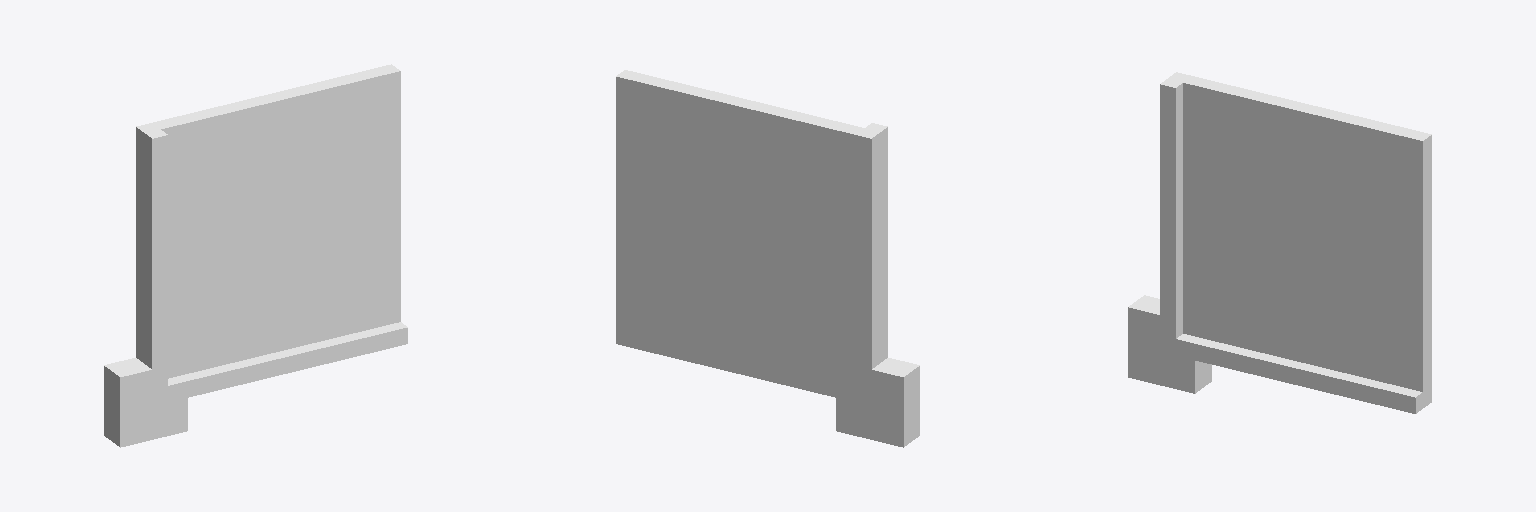
Rendered from Building1-Roof-0.obj.
3 renders of one model, left to right at view 1: azimuth 30°, elevation 25°; view 2: azimuth 150°, elevation 25°; view 3: azimuth 330°, elevation 25°, orthographic.
Parts seen in each view (by area): view 1: object 1; view 2: object 1; view 3: object 1.
Part boxes in pixels (x1,y1,x2,y2): object 1: (104,64,407,447); object 1: (616,70,919,447); object 1: (1128,72,1431,413).
Bounding box in the file's own units: 90 × 90 × 9.